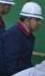hard-hat: (0, 21, 14, 44)
ppe-suit: (0, 0, 1, 2)
